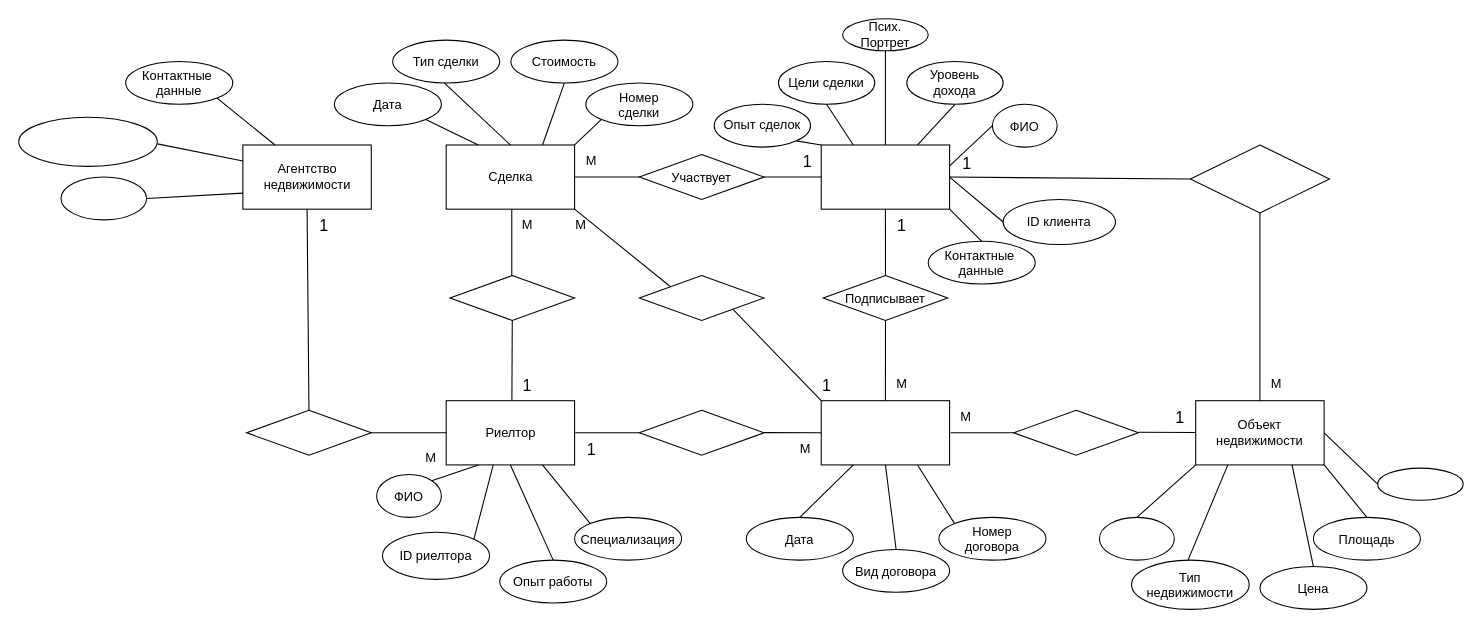
The diagram is 1482 pixels wide and 628 high, and some of its shapes have lost their labels. Each missing label, with the centre of its shape:
"Адрес" belongs at (1136,538).
"Ведет" belongs at (512,297).
"Включает" belongs at (701,297).
"Владелец/ арендодатор" belongs at (1259,178).
"Договор" belongs at (885,432).
"Клиент" belongs at (885,176).
"Название" belongs at (103,198).
"Нанимает" belongs at (308,432).
"Рента" belongs at (1420,483).
"Связан" belongs at (1075,432).
"Составляет" belongs at (701,432).
"Юридический адрес" belongs at (87,141).
